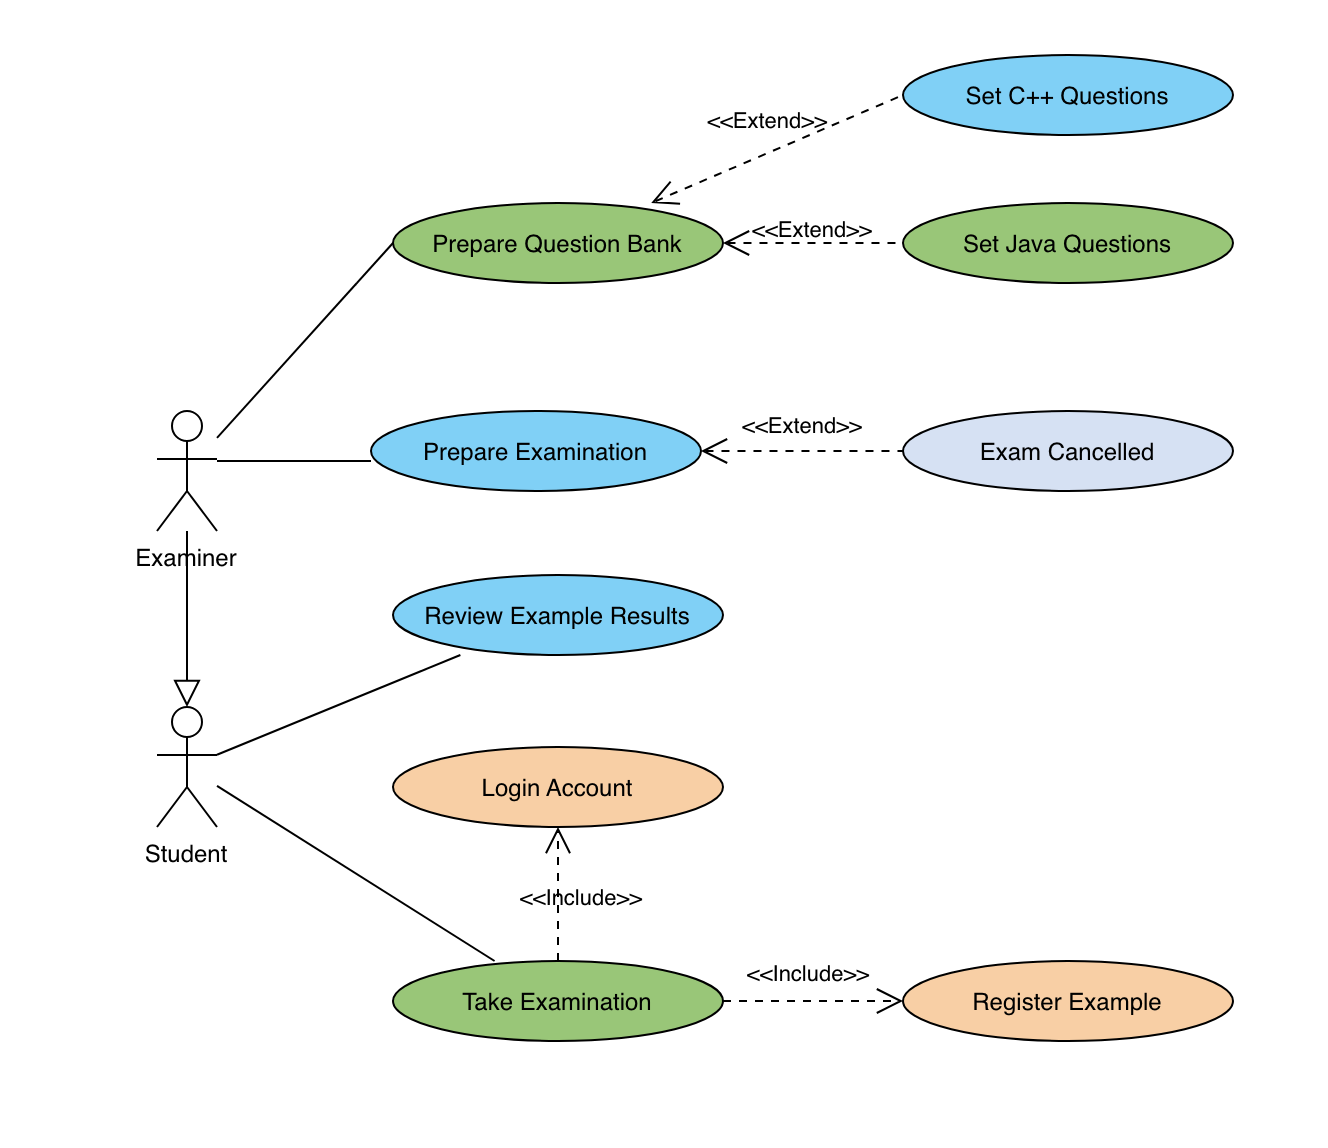actor: (152, 404, 224, 541), (151, 706, 222, 835)
association: (217, 782, 492, 961), (218, 243, 388, 441), (650, 89, 900, 207), (218, 652, 460, 755), (706, 432, 899, 476), (719, 224, 900, 265), (725, 983, 905, 1018), (217, 447, 372, 477)
generalization: (173, 533, 200, 707)
text: (416, 596, 696, 631), (417, 436, 659, 468), (953, 225, 1177, 258), (961, 78, 1182, 112), (457, 987, 669, 1020), (975, 981, 1164, 1018), (470, 770, 645, 809), (434, 227, 688, 254), (971, 433, 1164, 466), (130, 538, 252, 576), (743, 955, 875, 988), (735, 412, 864, 441), (514, 885, 645, 912), (707, 106, 832, 134), (755, 214, 875, 244), (136, 841, 245, 869)
use_case: (898, 955, 1237, 1046), (388, 200, 727, 289), (390, 958, 726, 1048), (368, 408, 705, 496), (390, 572, 726, 660), (900, 200, 1237, 288), (895, 408, 1231, 494), (390, 744, 725, 830), (902, 54, 1234, 138)
